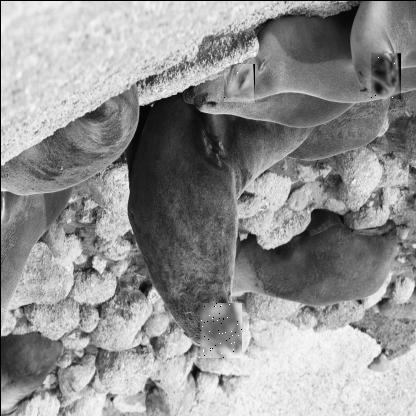face: (196, 301, 240, 357), (369, 51, 400, 98), (222, 62, 254, 102)
